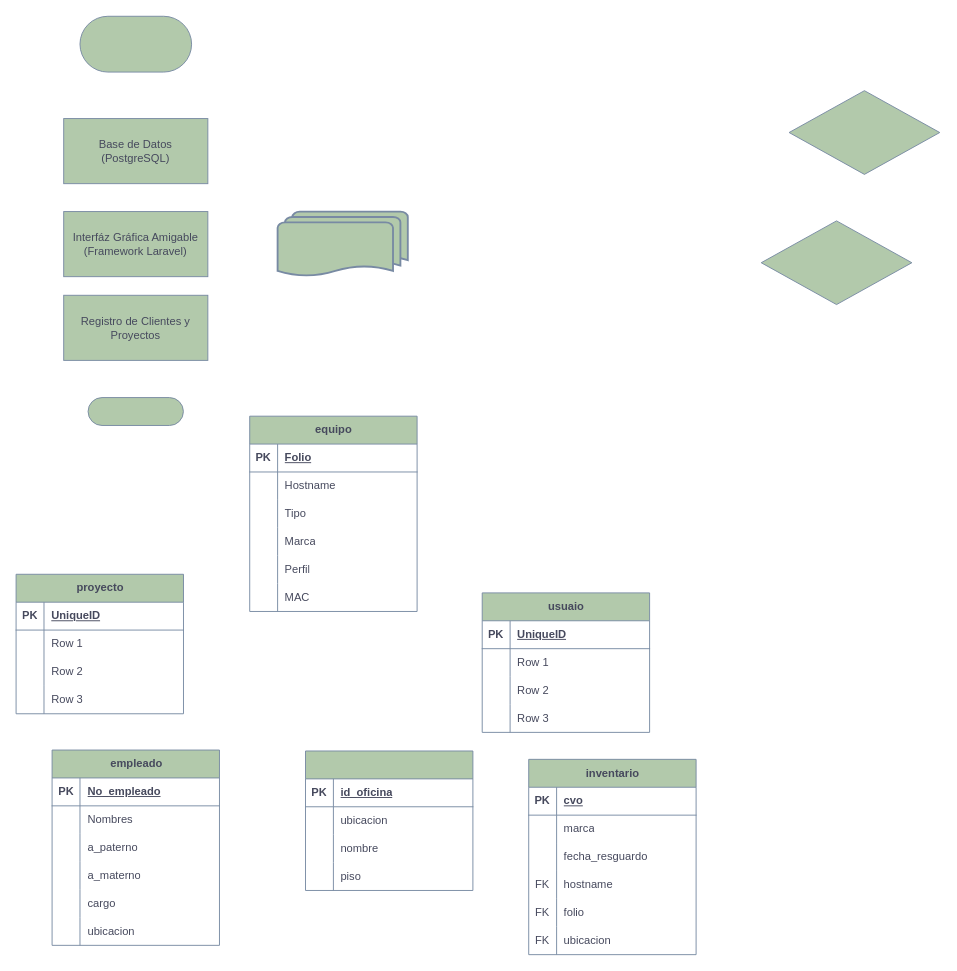
Some shapes in this 957 by 971 pixel diagram are drawn without their labels. The box of each missing label's shape, as (x1, y1, x2, y2) in pixels:
Fin: (87, 397, 183, 425)
Generar Reportes Automáticos: (276, 210, 408, 277)
SISTEMA INTERNO DISAHP: (79, 15, 192, 72)
unidad_admin: (305, 750, 473, 890)
